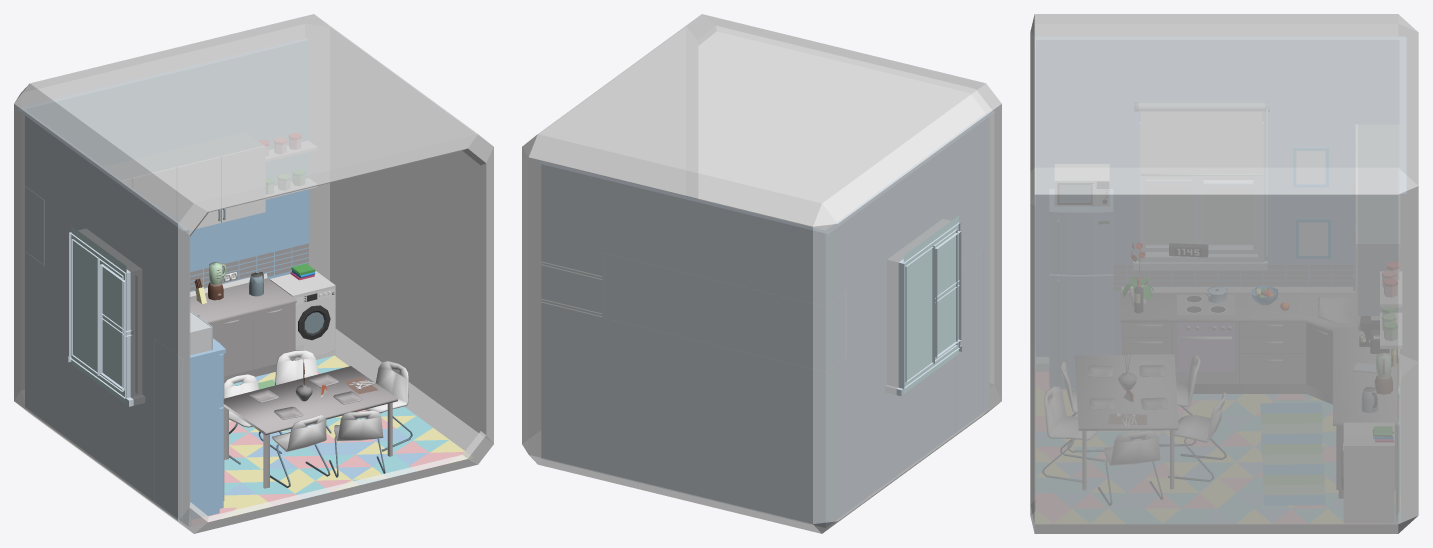
The model's file is kitchen.glb.
The picture shows the model from 3 angles, left to right: view 1: azimuth 30°, elevation 25°; view 2: azimuth 150°, elevation 25°; view 3: azimuth 270°, elevation 25°; orthographic projection. The views are drawn at different scales.
Visible parts, largest first — view 1: Cube.005, low_poly_interior.8613; view 2: Cube.005, low_poly_interior.8613; view 3: Cube.005, low_poly_interior.8613.
Part boxes in pixels (left/top/right/bottom): Cube.005: left=14, top=14, right=493, bottom=533; low_poly_interior.8613: left=17, top=38, right=473, bottom=526; Cube.005: left=522, top=14, right=1001, bottom=533; low_poly_interior.8613: left=540, top=111, right=994, bottom=527; Cube.005: left=1030, top=14, right=1418, bottom=533; low_poly_interior.8613: left=1036, top=37, right=1405, bottom=523.
Size of the model in its own units: 2.04 by 2 by 1.92.
2 materials, 1 textured.
